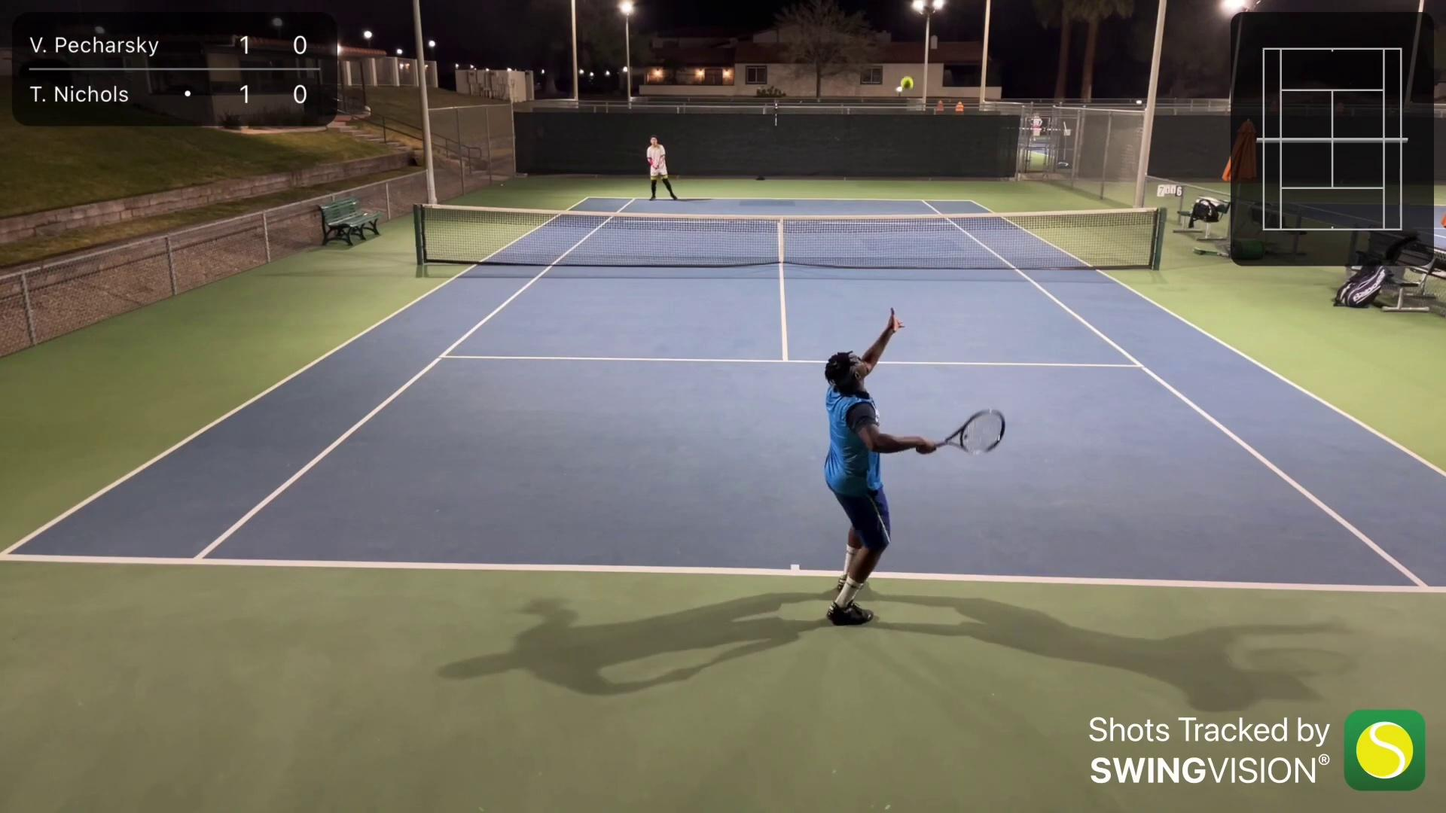ball: (899, 75, 914, 91)
